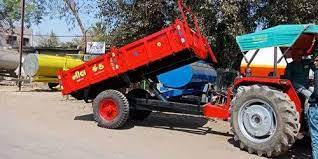wheel: (232, 88, 289, 153), (94, 90, 127, 129)
